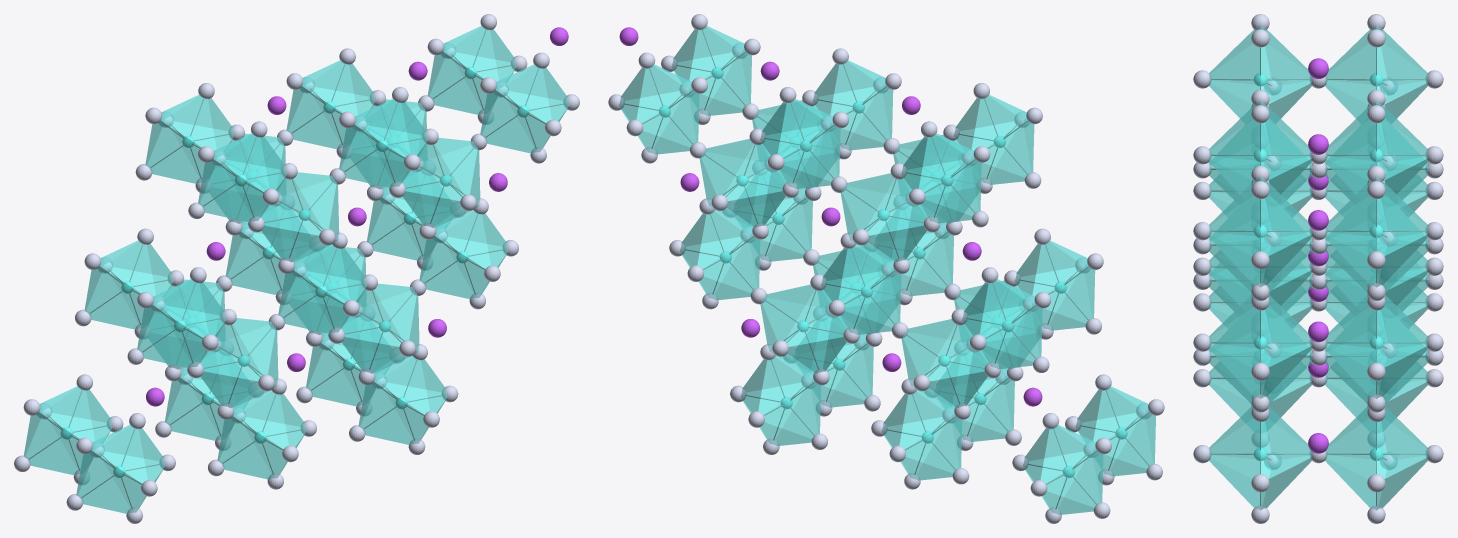
File: KYb2F7.fbx
3 views of the same model, side by side, from view 1: azimuth 30°, elevation 25°; view 2: azimuth 150°, elevation 25°; view 3: azimuth 270°, elevation 25° (orthographic). The views are drawn at different scales.
Parts seen in each view (by area): view 1: Shape_IndexedFaceSet.095, Shape_IndexedFaceSet.145, Shape_IndexedFaceSet.085, Shape_IndexedFaceSet.205, Shape_IndexedFaceSet.225, Shape_IndexedFaceSet.105, Shape_IndexedFaceSet.165, Shape_IndexedFaceSet.215, Shape_IndexedFaceSet.155, Shape_IndexedFaceSet.006, Shape_IndexedFaceSet.046, Shape_IndexedFaceSet.016 (+122 smaller); view 2: Shape_IndexedFaceSet.130, Shape_IndexedFaceSet.190, Shape_IndexedFaceSet.240, Shape_IndexedFaceSet.230, Shape_IndexedFaceSet.250, Shape_IndexedFaceSet.170, Shape_IndexedFaceSet.180, Shape_IndexedFaceSet.120, Shape_IndexedFaceSet.110, Shape_IndexedFaceSet.060, Shape_IndexedFaceSet.020, Shape_IndexedFaceSet.030 (+117 smaller); view 3: Shape_IndexedFaceSet.088, Shape_IndexedFaceSet.114, Shape_IndexedFaceSet.084, Shape_IndexedFaceSet.118, Shape_IndexedFaceSet.098, Shape_IndexedFaceSet.108, Shape_IndexedFaceSet.124, Shape_IndexedFaceSet.134, Shape_IndexedFaceSet.104, Shape_IndexedFaceSet.138, Shape_IndexedFaceSet.094, Shape_IndexedFaceSet.128 (+139 smaller).
Boxes of the visible parts, x1=… form: Shape_IndexedFaceSet.095: x1=419, y1=236, x2=485, y2=286; Shape_IndexedFaceSet.145: x1=217, y1=416, x2=283, y2=466; Shape_IndexedFaceSet.085: x1=358, y1=382, x2=424, y2=431; Shape_IndexedFaceSet.205: x1=76, y1=451, x2=141, y2=500; Shape_IndexedFaceSet.225: x1=198, y1=159, x2=263, y2=209; Shape_IndexedFaceSet.105: x1=480, y1=90, x2=545, y2=140; Shape_IndexedFaceSet.165: x1=339, y1=125, x2=404, y2=174; Shape_IndexedFaceSet.215: x1=137, y1=305, x2=202, y2=354; Shape_IndexedFaceSet.155: x1=278, y1=270, x2=343, y2=320; Shape_IndexedFaceSet.006: x1=341, y1=290, x2=402, y2=346; Shape_IndexedFaceSet.046: x1=200, y1=324, x2=261, y2=381; Shape_IndexedFaceSet.016: x1=402, y1=144, x2=463, y2=200; Shape_IndexedFaceSet.130: x1=642, y1=90, x2=699, y2=147; Shape_IndexedFaceSet.190: x1=783, y1=125, x2=840, y2=181; Shape_IndexedFaceSet.240: x1=985, y1=305, x2=1042, y2=361; Shape_IndexedFaceSet.230: x1=1046, y1=451, x2=1103, y2=507; Shape_IndexedFaceSet.250: x1=924, y1=159, x2=981, y2=216; Shape_IndexedFaceSet.170: x1=905, y1=416, x2=962, y2=473; Shape_IndexedFaceSet.180: x1=844, y1=270, x2=901, y2=327; Shape_IndexedFaceSet.120: x1=703, y1=236, x2=760, y2=292; Shape_IndexedFaceSet.110: x1=764, y1=382, x2=820, y2=438; Shape_IndexedFaceSet.060: x1=926, y1=324, x2=987, y2=381; Shape_IndexedFaceSet.020: x1=785, y1=290, x2=846, y2=346; Shape_IndexedFaceSet.030: x1=724, y1=144, x2=785, y2=200; Shape_IndexedFaceSet.088: x1=1209, y1=418, x2=1260, y2=478; Shape_IndexedFaceSet.114: x1=1376, y1=418, x2=1427, y2=478; Shape_IndexedFaceSet.084: x1=1260, y1=418, x2=1311, y2=478; Shape_IndexedFaceSet.118: x1=1325, y1=418, x2=1376, y2=478; Shape_IndexedFaceSet.098: x1=1209, y1=307, x2=1260, y2=367; Shape_IndexedFaceSet.108: x1=1209, y1=196, x2=1260, y2=255; Shape_IndexedFaceSet.124: x1=1376, y1=307, x2=1427, y2=367; Shape_IndexedFaceSet.134: x1=1376, y1=196, x2=1427, y2=255; Shape_IndexedFaceSet.104: x1=1260, y1=195, x2=1311, y2=255; Shape_IndexedFaceSet.138: x1=1325, y1=195, x2=1376, y2=255; Shape_IndexedFaceSet.094: x1=1260, y1=307, x2=1311, y2=367; Shape_IndexedFaceSet.128: x1=1325, y1=307, x2=1376, y2=367.
Size of the model in its own units: 2407 by 1638 by 910.
